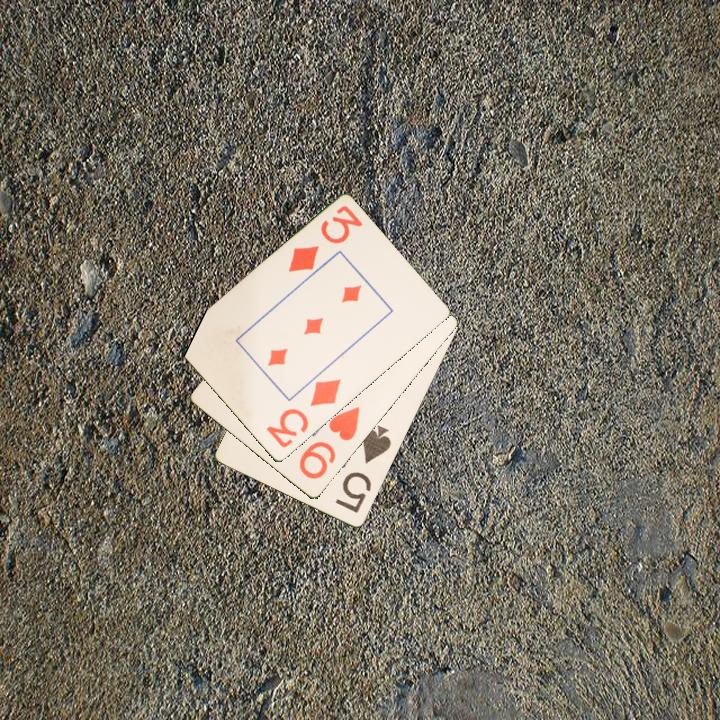3d: (263, 376, 344, 451), (284, 202, 366, 276)
5s: (332, 422, 394, 516)
9h: (295, 403, 363, 483)
